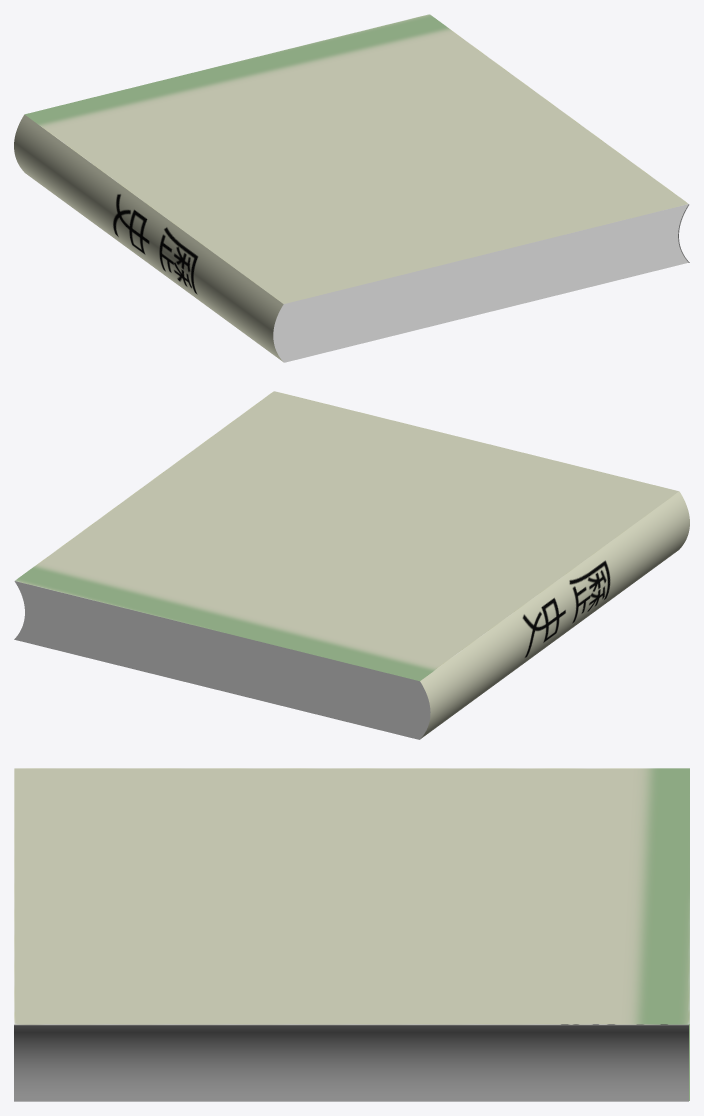
The picture shows the model from 3 angles, top to bottom: view 1: azimuth 30°, elevation 25°; view 2: azimuth 150°, elevation 25°; view 3: azimuth 270°, elevation 25°; orthographic projection. The views are drawn at different scales.
Parts seen in each view (by area): view 1: Arc001; view 2: Arc001; view 3: Arc001, Arc002.
Part boxes in pixels (left/top/right/bottom): Arc001: left=14, top=14, right=688, bottom=362; Arc001: left=14, top=391, right=689, bottom=739; Arc001: left=14, top=768, right=689, bottom=1100; Arc002: left=14, top=1024, right=688, bottom=1101.
Bounding box in the file's own units: 8.7 × 1.2 × 9.39.
Materials: 2 (1 with a texture image).
